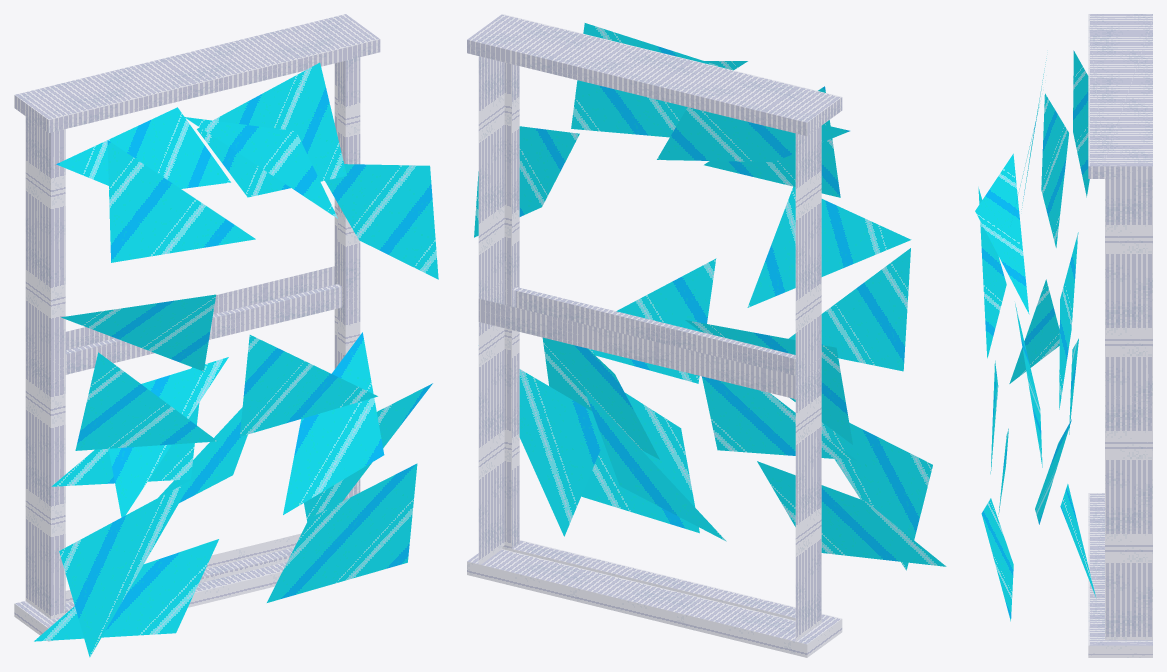
File: broken_window.glb
The picture shows the model from 3 angles, left to right: view 1: azimuth 30°, elevation 25°; view 2: azimuth 150°, elevation 25°; view 3: azimuth 270°, elevation 25°; orthographic projection. The views are drawn at different scales.
Visible parts, largest first — view 1: Window, Window.014, Window.006, Window.003, Window.016, Window.002, Window.012, Window.008, Window.004, Window.015, Window.001, Window.007 (+5 smaller); view 2: Window, Window.011, Window.008, Window.007, Window.016, Window.015, Window.010, Window.001, Window.002, Window.014, Window.012, Window.013 (+4 smaller); view 3: Window, Window.007, Window.002, Window.009, Window.008, Window.001, Window.014, Window.003, Window.011, Window.004, Window.012, Window.010 (+1 smaller).
Part boxes in pixels (x1,y1,x2,y2): Window: (14,14,380,641); Window.014: (267,463,417,602); Window.006: (107,140,255,262); Window.003: (325,164,438,279); Window.016: (59,480,191,657); Window.002: (197,62,346,197); Window.012: (283,332,384,514); Window.008: (75,352,217,450); Window.004: (239,335,377,436); Window.015: (34,539,218,641); Window.001: (56,107,230,188); Window.007: (61,294,215,371); Window: (467,14,842,657); Window.011: (519,369,603,536); Window.008: (788,248,910,371); Window.007: (747,186,911,307); Window.016: (821,422,932,570); Window.015: (757,461,946,566); Window.010: (702,376,856,460); Window.001: (657,107,849,162); Window.002: (571,23,731,137); Window.014: (581,392,699,533); Window.012: (542,337,659,459); Window.013: (584,389,726,541); Window: (1088,14,1152,657); Window.007: (975,153,1029,314); Window.002: (1041,93,1068,247); Window.009: (1009,279,1059,383); Window.008: (978,187,1006,358); Window.001: (1073,50,1089,197); Window.014: (981,498,1013,621); Window.003: (1059,232,1078,409); Window.011: (1060,484,1095,596); Window.004: (1015,303,1042,467); Window.012: (1035,419,1071,524); Window.010: (1069,338,1078,434).
Size of the model in its own units: 1.04 by 1.2 by 0.3911.
Materials: 2 (2 with a texture image).
